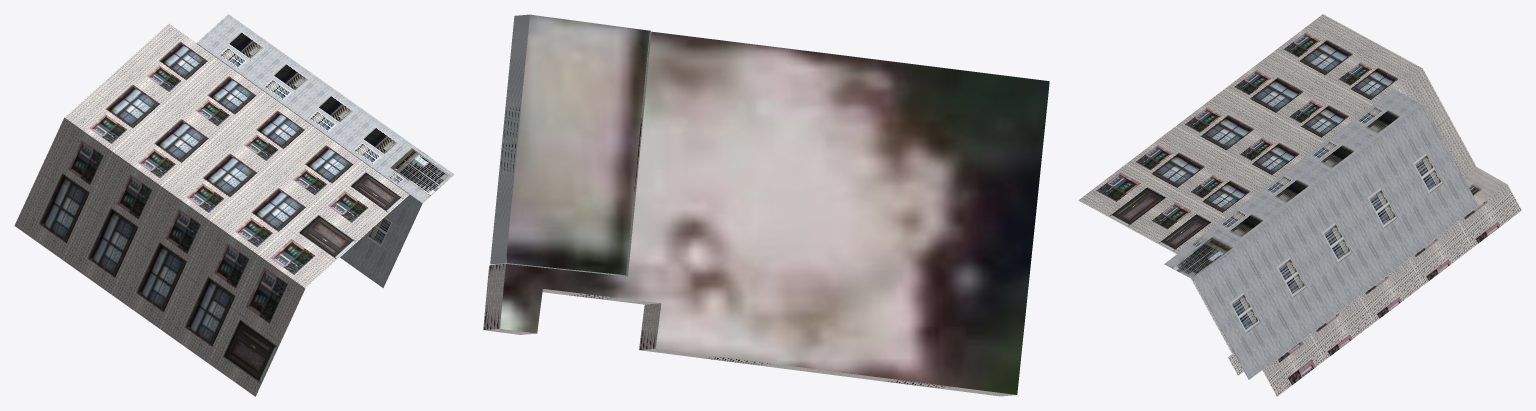
3 views of the same model, side by side, from view 1: azimuth 30°, elevation 25°; view 2: azimuth 150°, elevation 25°; view 3: azimuth 270°, elevation 25° (orthographic). The views are drawn at different scales.
Size of the model in its own units: 22.4 by 16.55 by 23.66.
Materials: 8 (8 with a texture image).
